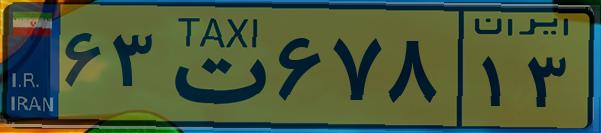1: (475, 38, 525, 113)
3: (525, 38, 570, 115), (110, 28, 158, 98)
6: (270, 28, 330, 110), (57, 26, 110, 100)
7: (330, 28, 385, 110)
8: (385, 28, 445, 110)
ت: (158, 12, 270, 120)
